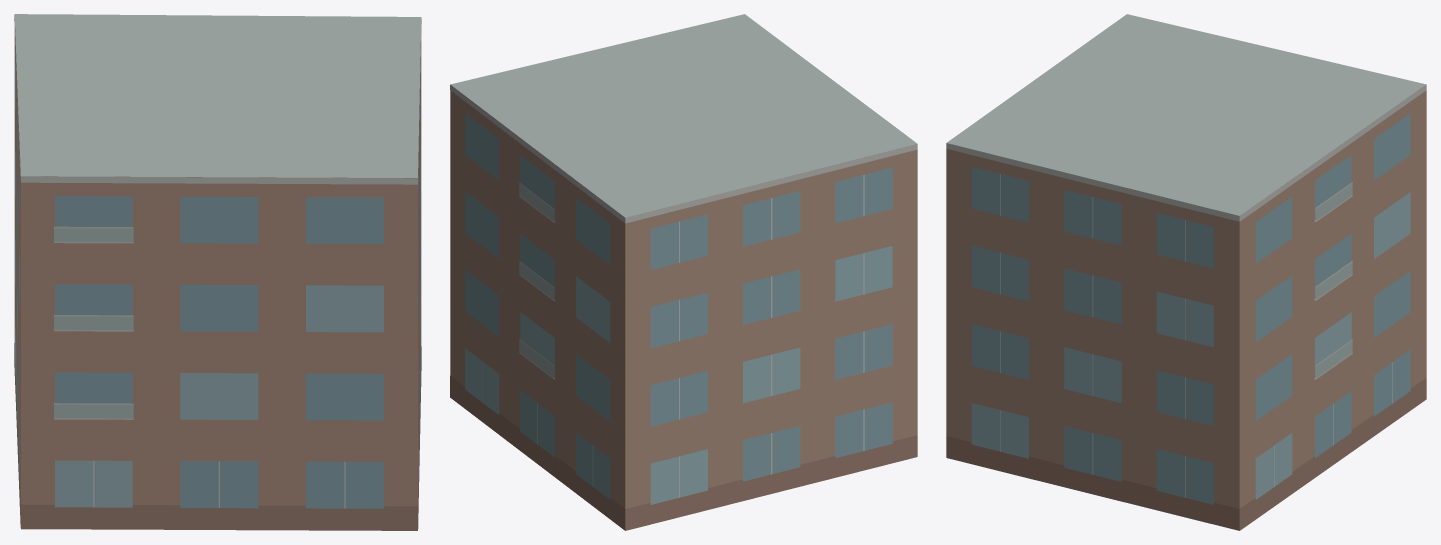
Rendered from survey-upis-32618382.glb.
The picture shows the model from 3 angles, left to right: view 1: azimuth 30°, elevation 25°; view 2: azimuth 150°, elevation 25°; view 3: azimuth 270°, elevation 25°; orthographic projection. The views are drawn at different scales.
Parts seen in each view (by area): view 1: survey-upis-32618382.tmp; view 2: survey-upis-32618382.tmp; view 3: survey-upis-32618382.tmp.
Boxes of the visible parts, bbox=[...] form: survey-upis-32618382.tmp: bbox=[14, 14, 421, 530]; survey-upis-32618382.tmp: bbox=[450, 14, 917, 530]; survey-upis-32618382.tmp: bbox=[946, 14, 1426, 530].
Size of the model in its own units: 18.37 by 13.35 by 18.46.
